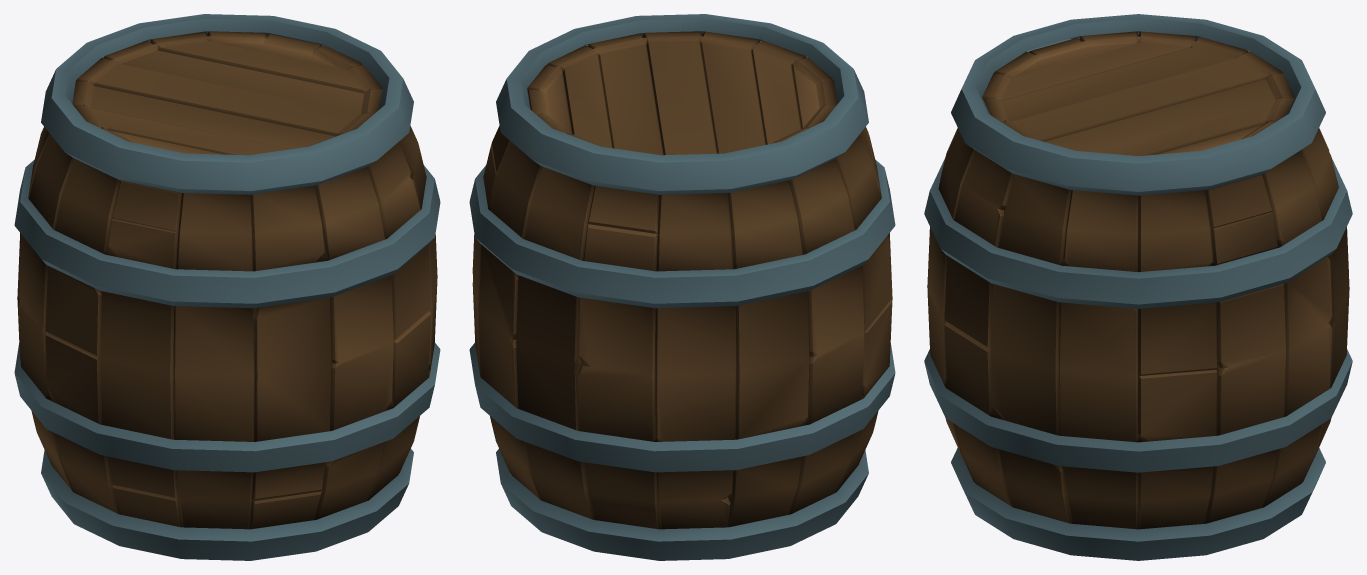
The model's file is obj_barrel.FBX.
3 renders of one model, left to right at view 1: azimuth 30°, elevation 25°; view 2: azimuth 150°, elevation 25°; view 3: azimuth 270°, elevation 25°, orthographic.
Parts seen in each view (by area): view 1: obj_barrel; view 2: obj_barrel; view 3: obj_barrel.
Boxes of the visible parts, x1,y1,x2,y2 form: obj_barrel: (14,14,440,560); obj_barrel: (469,14,895,560); obj_barrel: (924,14,1352,560).
Size of the model in its own units: 1.88 by 1.94 by 1.88.
